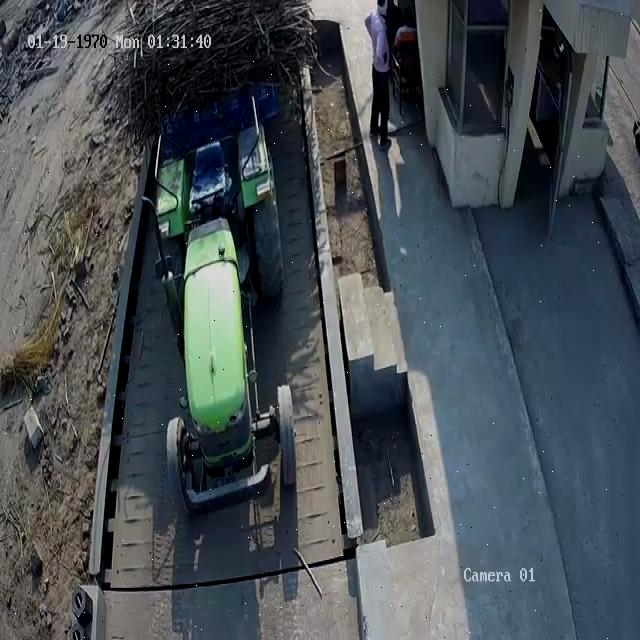Tratores - v5 YOLO V8L 2024-11-13: (147, 114, 296, 512)
